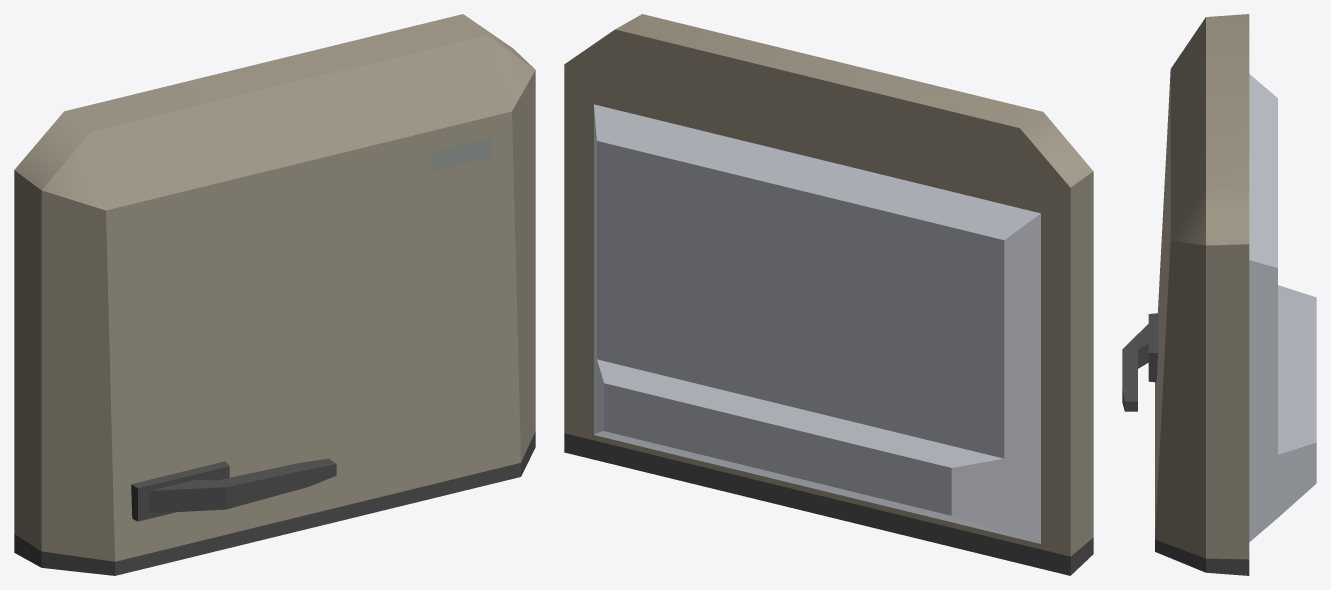
File: SM_Prop_Fridge_Door_01.glb
3 renders of one model, left to right at view 1: azimuth 30°, elevation 25°; view 2: azimuth 150°, elevation 25°; view 3: azimuth 270°, elevation 25°, orthographic. The views are drawn at different scales.
Parts seen in each view (by area): view 1: SM_Prop_Fridge_Door_01; view 2: SM_Prop_Fridge_Door_01; view 3: SM_Prop_Fridge_Door_01.
Part boxes in pixels (x1=…): SM_Prop_Fridge_Door_01: x1=14, y1=14, x2=535, y2=575; SM_Prop_Fridge_Door_01: x1=564, y1=14, x2=1093, y2=575; SM_Prop_Fridge_Door_01: x1=1122, y1=14, x2=1316, y2=575.
Bounding box in the file's own units: 0.934 × 0.768 × 0.364.
1 material, 1 textured.
